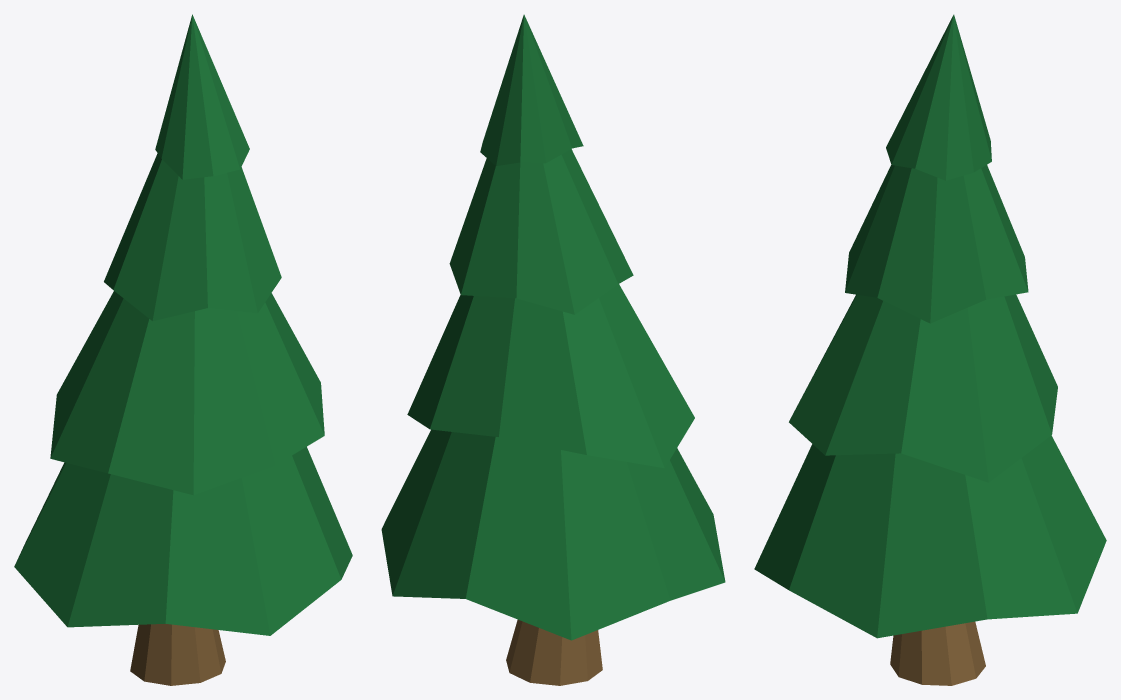
Rendered from Pine1.fbx.
3 views of the same model, side by side, from view 1: azimuth 30°, elevation 25°; view 2: azimuth 150°, elevation 25°; view 3: azimuth 270°, elevation 25° (orthographic). The views are drawn at different scales.
Parts seen in each view (by area): view 1: Cylinder; view 2: Cylinder; view 3: Cylinder.
Part boxes in pixels (left/top/right/bottom): Cylinder: left=14, top=14, right=352, bottom=685; Cylinder: left=381, top=14, right=725, bottom=685; Cylinder: left=754, top=14, right=1106, bottom=685.
Size of the model in its own units: 240 by 516 by 249.
